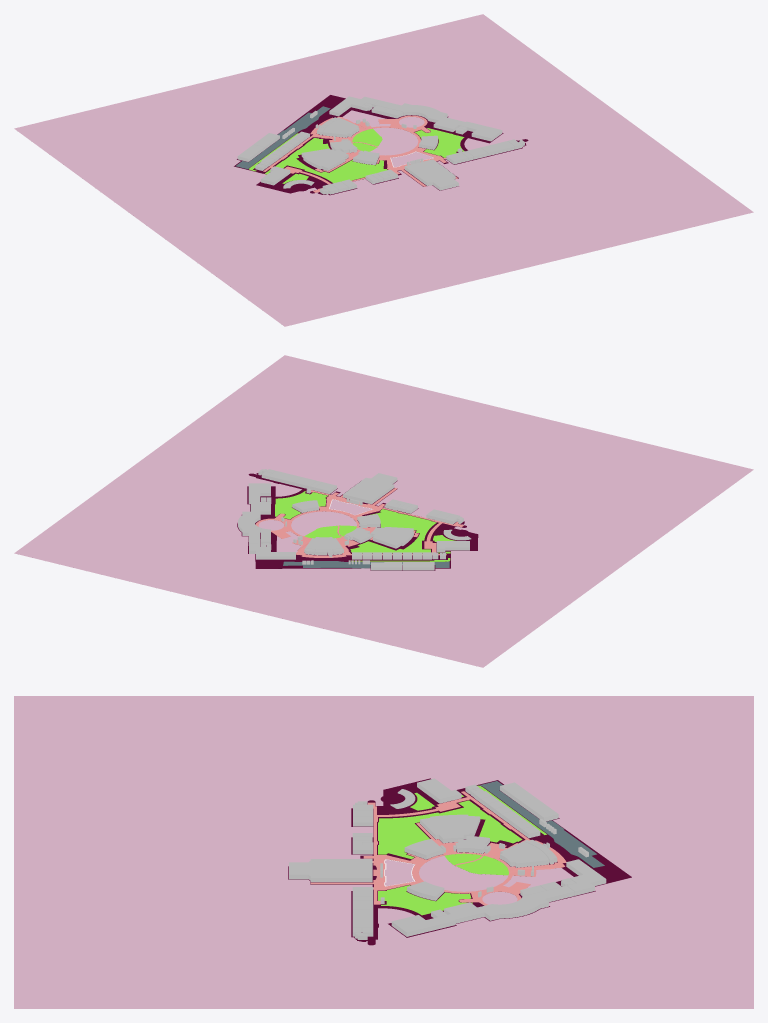
Rendered from njc-l2-v6-8-5.glb.
3 renders of one model, top to bottom at view 1: azimuth 30°, elevation 25°; view 2: azimuth 150°, elevation 25°; view 3: azimuth 270°, elevation 25°, orthographic. The views are drawn at different scales.
Visible parts, largest first — view 1: Grey, None, Grass, Base, Foot, Purple, Drive, LT5; view 2: Grey, None, Base, Grass, Foot, Purple, LT5, Drive; view 3: Grey, None, Grass, Base, Foot, Purple, Drive, LT5, LT1.
Part boxes in pixels (bbox=[...]): Grey: bbox=[14, 14, 753, 326]; None: bbox=[237, 96, 524, 194]; Grass: bbox=[249, 128, 464, 183]; Base: bbox=[234, 95, 528, 195]; Foot: bbox=[263, 115, 457, 192]; Purple: bbox=[404, 159, 458, 190]; Drive: bbox=[235, 106, 330, 169]; LT5: bbox=[301, 148, 348, 170]; Grey: bbox=[14, 355, 753, 667]; None: bbox=[238, 469, 469, 570]; Base: bbox=[237, 473, 478, 570]; Grass: bbox=[275, 491, 456, 561]; Foot: bbox=[255, 488, 463, 557]; Purple: bbox=[343, 473, 397, 504]; LT5: bbox=[370, 527, 413, 548]; Drive: bbox=[283, 561, 449, 568]; Grey: bbox=[14, 696, 753, 1008]; None: bbox=[352, 778, 606, 939]; Grass: bbox=[378, 785, 546, 915]; Base: bbox=[288, 778, 631, 945]; Foot: bbox=[310, 791, 566, 905]; Purple: bbox=[289, 859, 372, 882]; Drive: bbox=[479, 781, 604, 867]; LT5: bbox=[420, 814, 480, 843]; LT1: bbox=[500, 841, 548, 867].
Bounding box in the file's own units: 30 × 0.205 × 30.
